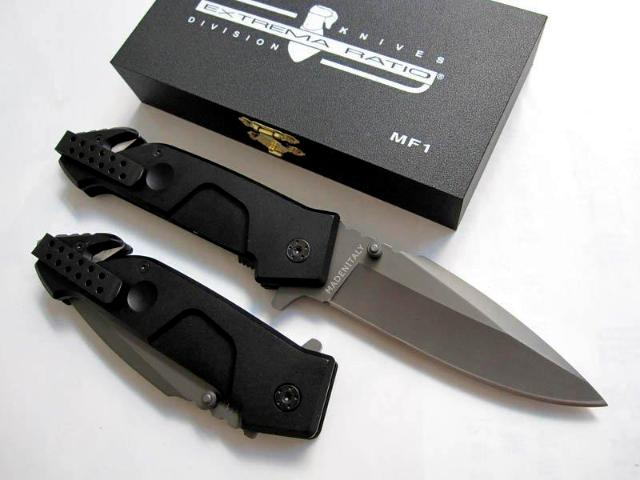pocket-knife: (56, 98, 620, 412)
